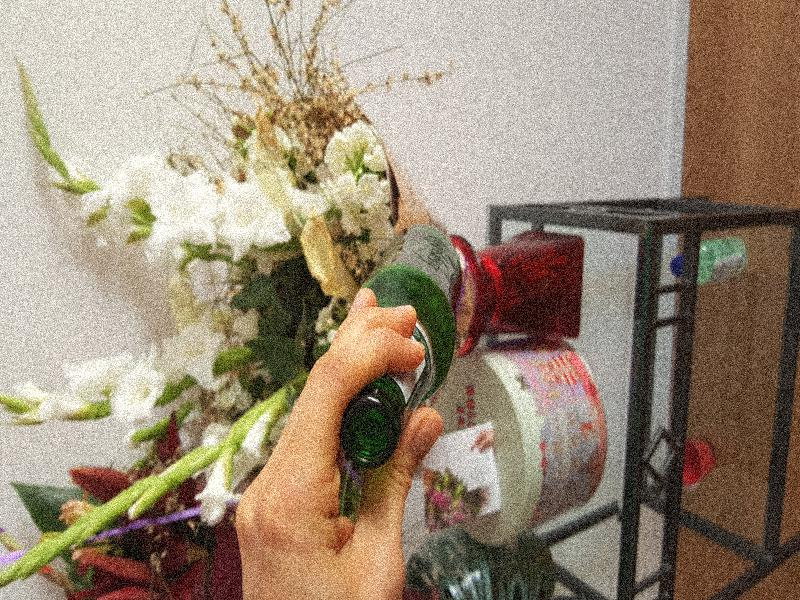Beer: (342, 223, 463, 467)
